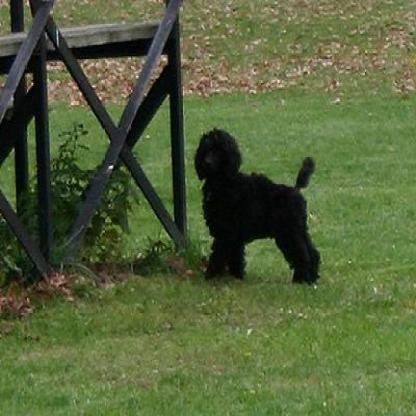miniature_poodle: (192, 126, 320, 284)
